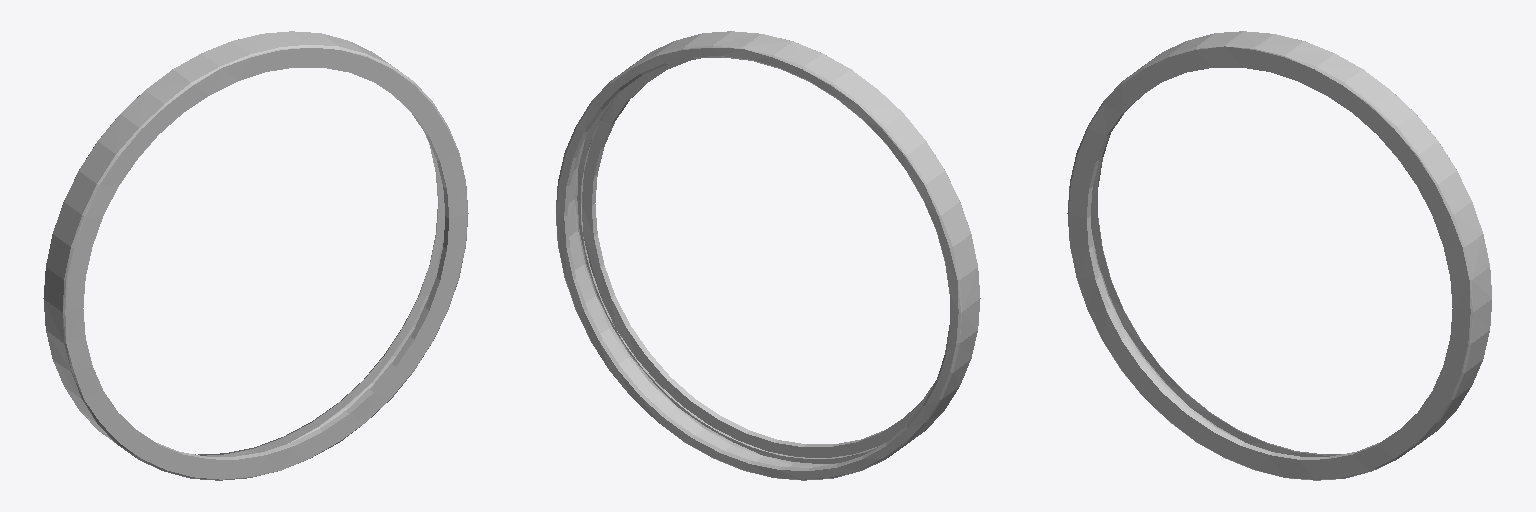
Rendered from RightGripperYawLink.obj.
3 renders of one model, left to right at view 1: azimuth 30°, elevation 25°; view 2: azimuth 150°, elevation 25°; view 3: azimuth 330°, elevation 25°, orthographic.
Visible parts, largest first — view 1: N17_24_P03_01_Barret_clamp_ring; view 2: N17_24_P03_01_Barret_clamp_ring; view 3: N17_24_P03_01_Barret_clamp_ring.
Boxes of the visible parts, <box> form: N17_24_P03_01_Barret_clamp_ring: <box>43,31,468,480</box>; N17_24_P03_01_Barret_clamp_ring: <box>556,31,980,480</box>; N17_24_P03_01_Barret_clamp_ring: <box>1067,31,1491,480</box>.
Size of the model in its own units: 0.09 by 0.0896 by 0.008.